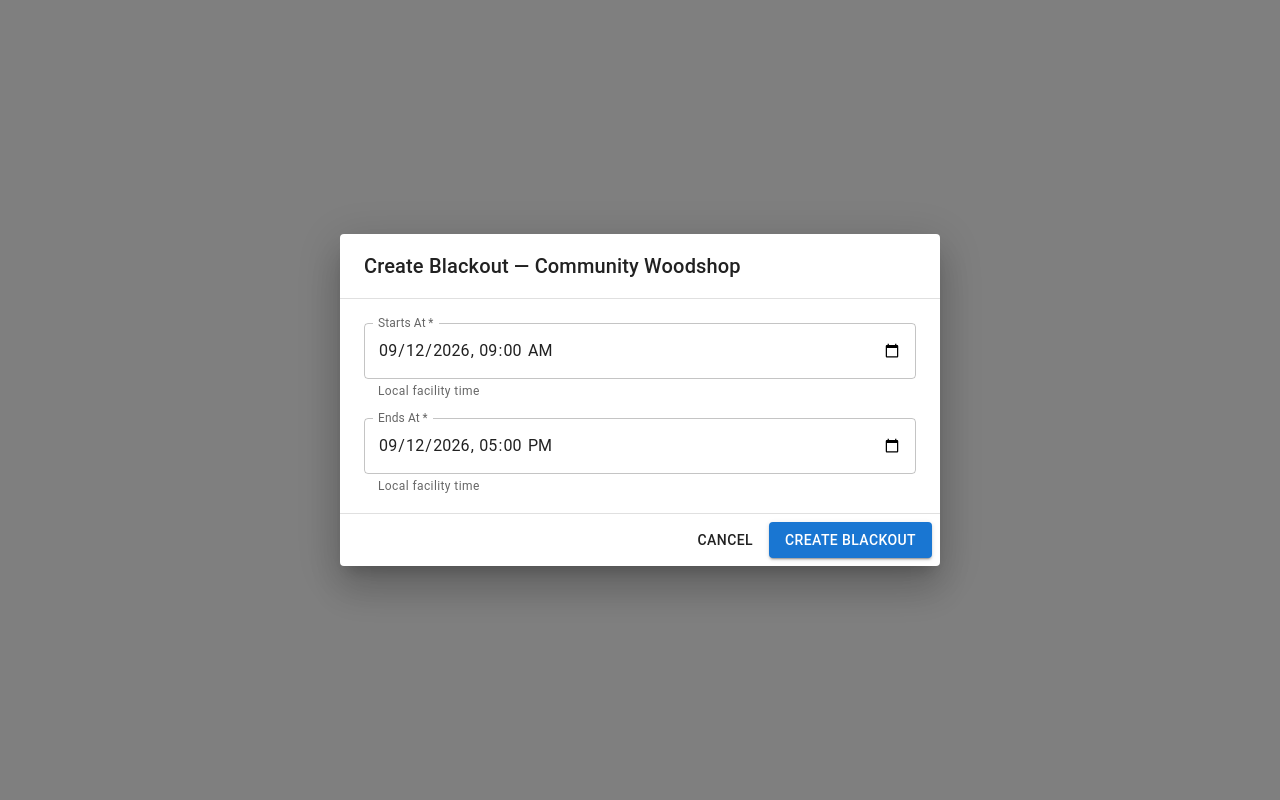
Admin Blackouts — Create, Retry, Conflict, Cancel (Spec 7.1, 7.2, 7.3, 4.2 E21-E23) › definitive 409 SLOT_CONFLICT clears attempt and requires new explicit key
Click the button "Create Blackout". click: click(850, 540)
box: [769,522,932,558]
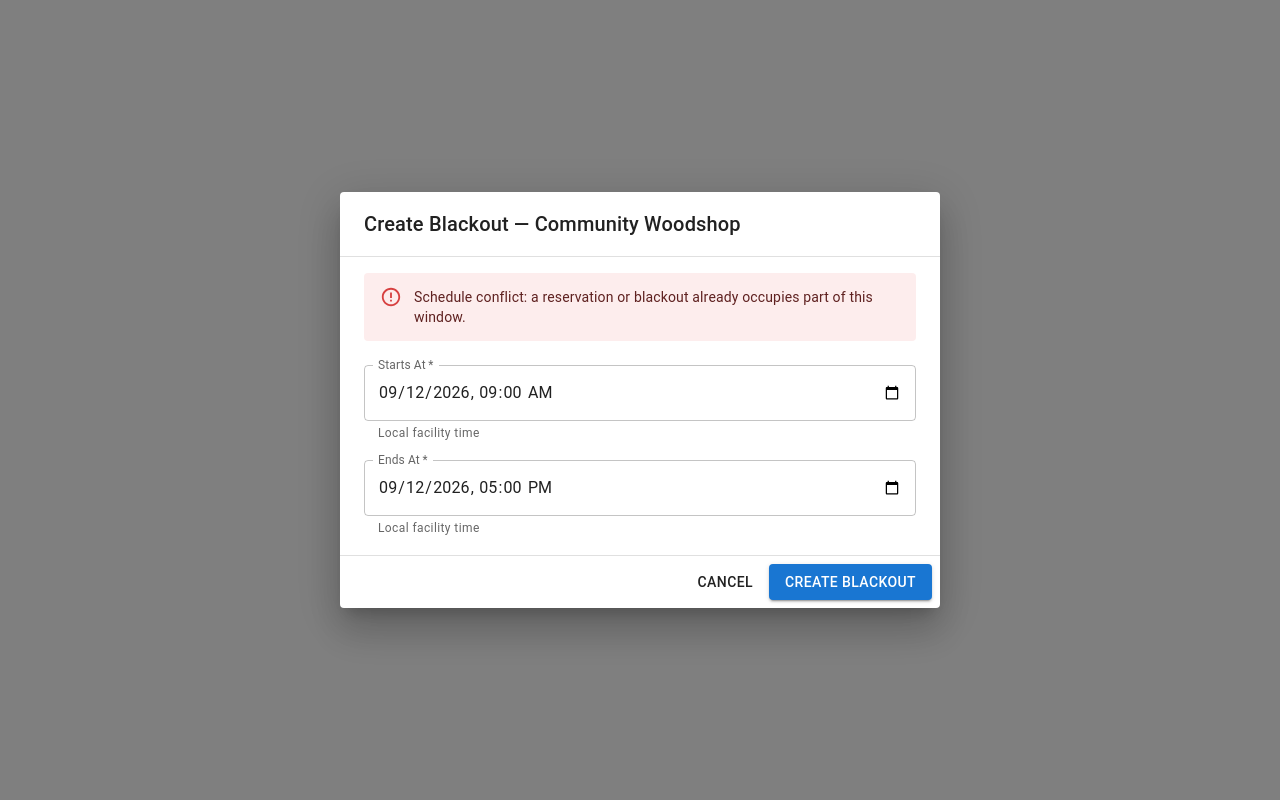
Result: the message is shown at [364,273,916,341]
Result: the text "Schedule conflict" is shown at [414,289,873,325]
